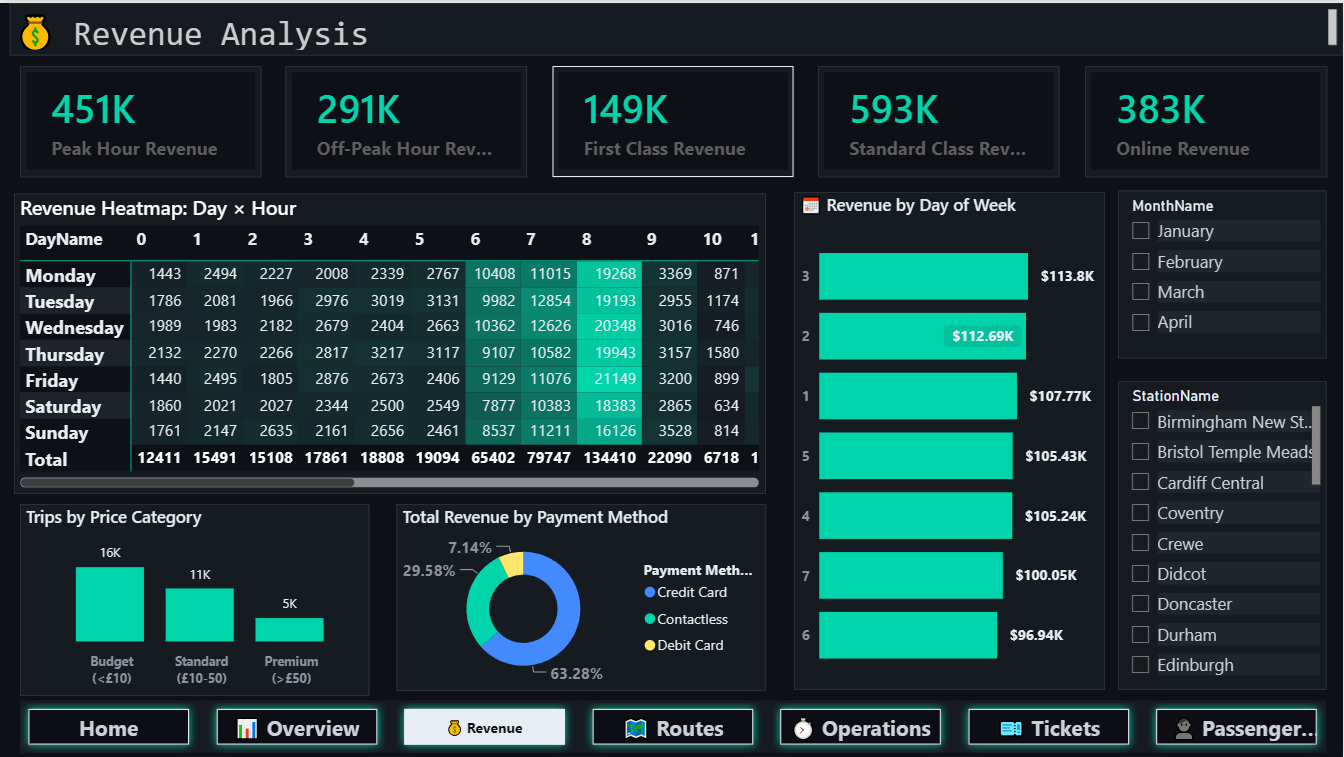

The dashboard page shown, as its layout file describes it:
{"tool":"powerbi","page":{"name":"💰 Revenue","canvas":[1280,720],"ordinal":1},"visuals":[{"type":"textbox","box":[10,0,1270,50],"z":0},{"type":"cardVisual","fields":{"Data":["Measures_page2.Peak Hour Revenue"]},"box":[20,60,230.2,106],"z":1000},{"type":"cardVisual","fields":{"Data":["Measures_page2.Off-Peak Hour Revenue"]},"box":[273.5,60,230.2,106],"z":2000},{"type":"cardVisual","fields":{"Data":["Measures_page2.First Class Revenue"]},"box":[527,60,230.2,106],"z":3000},{"type":"cardVisual","fields":{"Data":["Measures_page2.Standard Class Revenue"]},"box":[780.5,60,230.2,106],"z":4000},{"type":"cardVisual","fields":{"Data":["Measures_page2.Online Revenue"]},"box":[1034,60.2,230.9,105.7],"z":5000},{"type":"pivotTable","title":"Revenue Heatmap: Day × Hour","fields":{"Rows":["Dim_Date.DayName"],"Columns":["Fact_Tickets.DepartureHour"],"Values":["Measures_page1.Total Revenue"]},"box":[14.1,181.3,715.8,286],"z":6000},{"type":"clusteredColumnChart","title":"Trips by Price Category","fields":{"Y":["Measures_page1.Total Trips"],"Category":["Fact_Tickets.PriceCategoryLabel"]},"box":[20.3,476.7,332.9,182.9],"z":7000},{"type":"donutChart","fields":{"Category":["Dim_Payment.Payment Method"],"Y":["Measures_page1.Total Revenue"]},"box":[378.2,476.7,351.7,178.2],"z":8000},{"type":"pageNavigator","box":[20.3,664.3,1244.1,50],"z":9000},{"type":"slicer","fields":{"Values":["Dim_Date.MonthName"]},"box":[1034.7,178.2,229.8,161],"z":10000},{"type":"slicer","fields":{"Values":["Dim_Station.StationName"]},"box":[1034.7,359.5,229.8,295.4],"z":11000},{"type":"clusteredBarChart","title":"📅 Revenue by Day of Week","fields":{"Y":["Measures_page1.Total Revenue"],"Category":["Dim_Date.DayOfWeek"]},"box":[756.5,179.7,253.2,475.1],"z":12000},{"type":"slicer","fields":{"Values":["Dim_Station.StationName"]},"box":[850.3,0,178.2,71.9],"z":12001},{"type":"slicer","fields":{"Values":["Dim_Station.StationName"]},"box":[860.3,10,178.2,71.9],"z":12002}]}

Visuals, with their boxes in screenshot pixels (x1, y1, x2, y2), scaled from the page's 1280x720 canvas onto the 1344x757 screenshot:
textbox: x1=10 y1=0 x2=1343 y2=53
cardVisual - Measures_page2.Peak Hour Revenue: x1=21 y1=63 x2=263 y2=175
cardVisual - Measures_page2.Off-Peak Hour Revenue: x1=287 y1=63 x2=529 y2=175
cardVisual - Measures_page2.First Class Revenue: x1=553 y1=63 x2=795 y2=175
cardVisual - Measures_page2.Standard Class Revenue: x1=820 y1=63 x2=1061 y2=175
cardVisual - Measures_page2.Online Revenue: x1=1086 y1=63 x2=1328 y2=174
"Revenue Heatmap: Day × Hour" pivotTable: x1=15 y1=191 x2=766 y2=491
"Trips by Price Category" clusteredColumnChart: x1=21 y1=501 x2=371 y2=693
donutChart - Dim_Payment.Payment Method x Measures_page1.Total Revenue: x1=397 y1=501 x2=766 y2=689
pageNavigator: x1=21 y1=698 x2=1328 y2=751
slicer - Dim_Date.MonthName: x1=1086 y1=187 x2=1328 y2=357
slicer - Dim_Station.StationName: x1=1086 y1=378 x2=1328 y2=689
"📅 Revenue by Day of Week" clusteredBarChart: x1=794 y1=189 x2=1060 y2=688
slicer - Dim_Station.StationName: x1=893 y1=0 x2=1080 y2=76
slicer - Dim_Station.StationName: x1=903 y1=11 x2=1090 y2=86
